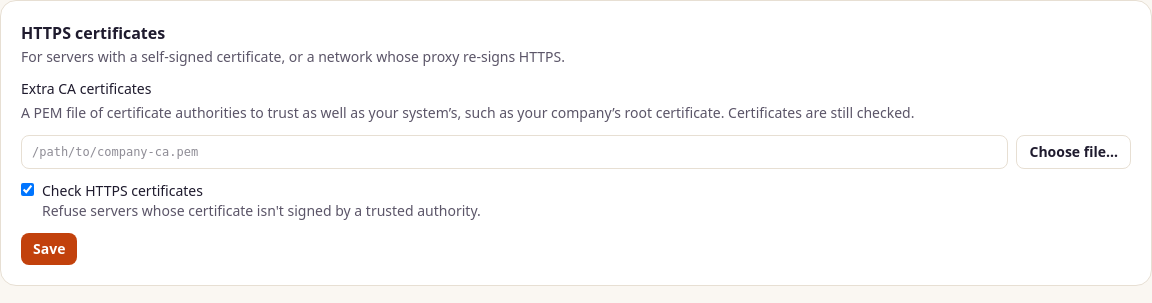
Scenario: TlsSettings › trusts a chosen CA file and saves both settings
expect the checkbox labelled "Check HTTPS certificates" is checked: met, box [21,183,34,196]
Click the button "Choose file…" at {"x": 1074, "y": 152}, box [1016,135,1131,169]
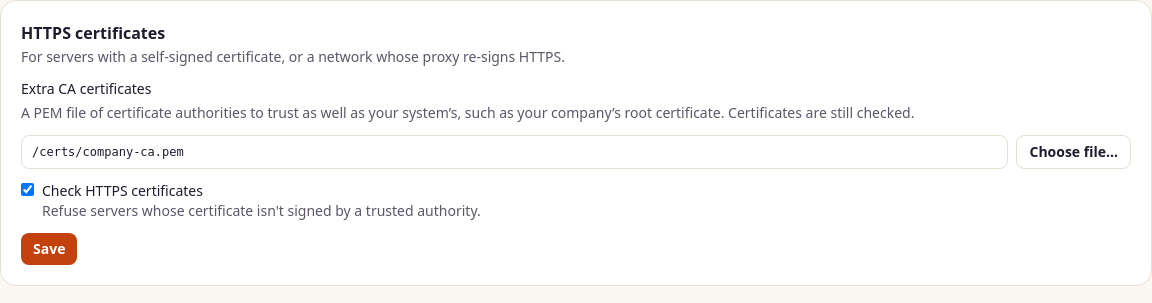
expect the field named "Extra CA certificates file" holds "/certs/company-ca.pem": met, box [21,135,1008,169]
Click the button "Save" at {"x": 49, "y": 249}, box [21,233,77,265]
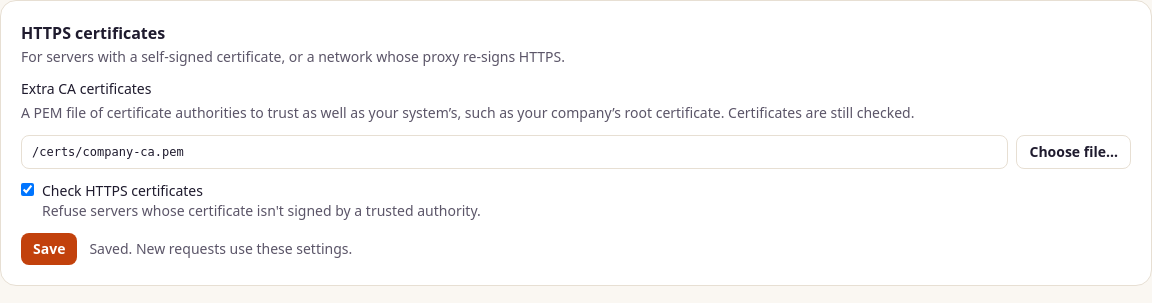
expect the text "Saved. New requests use these settings." is shown: met, box [89,239,352,259]
